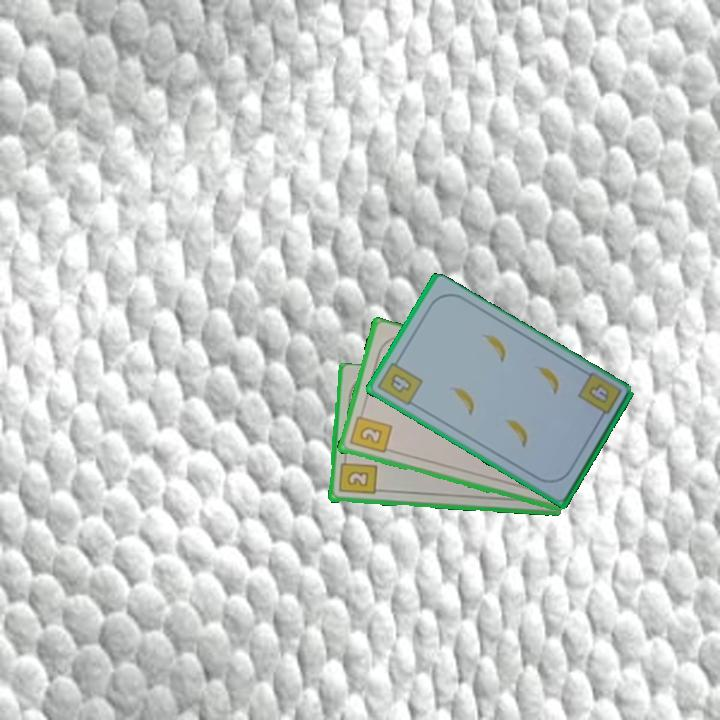2b: (346, 407, 394, 456), (335, 454, 379, 497)
4b: (374, 354, 425, 409), (587, 383, 610, 404)
